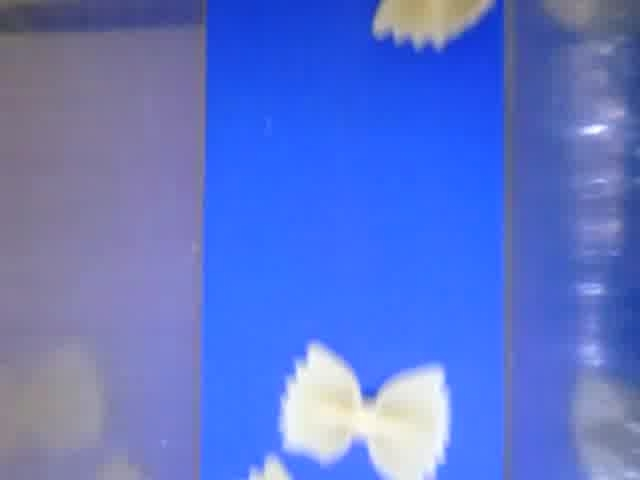farfalle: (277, 337, 450, 480), (370, 1, 493, 51)
